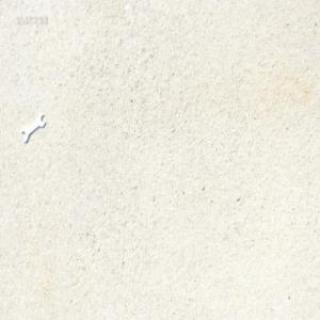Wrenchtrack_idkeyframe: (21, 107, 46, 141)
